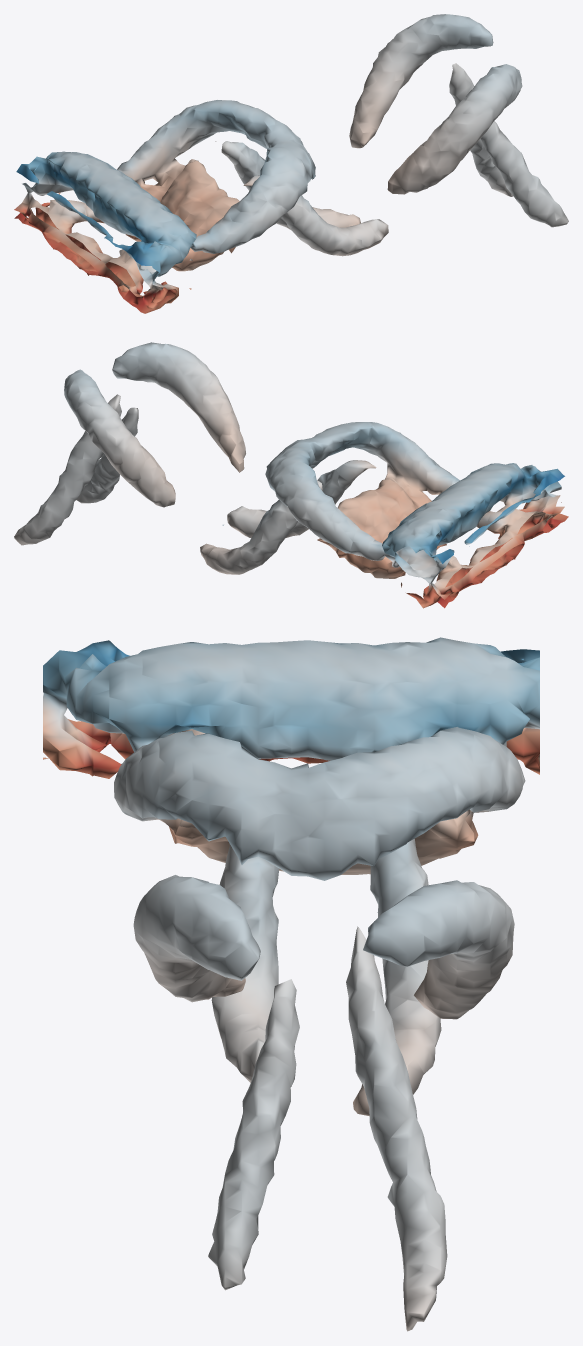
3 renders of one model, top to bottom at view 1: azimuth 30°, elevation 25°; view 2: azimuth 150°, elevation 25°; view 3: azimuth 270°, elevation 25°, orthographic. The views are drawn at different scales.
Size of the model in its own units: 5.36 by 2.07 by 2.5.
